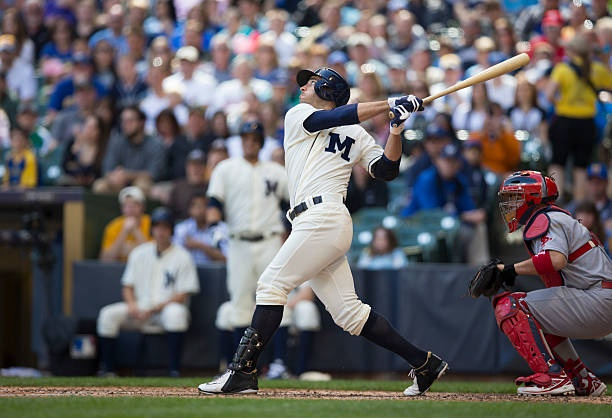bita: (392, 54, 531, 114)
